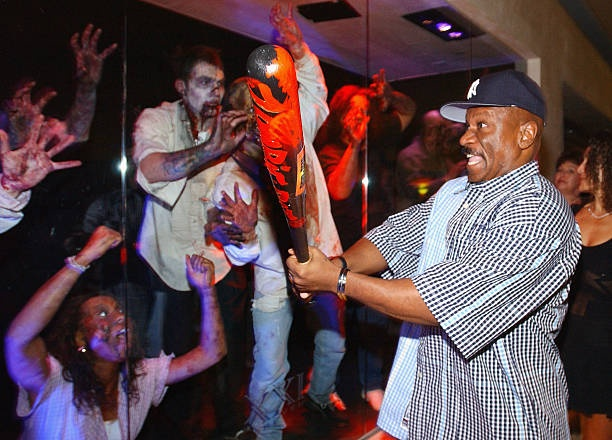bita: (248, 40, 309, 268)
